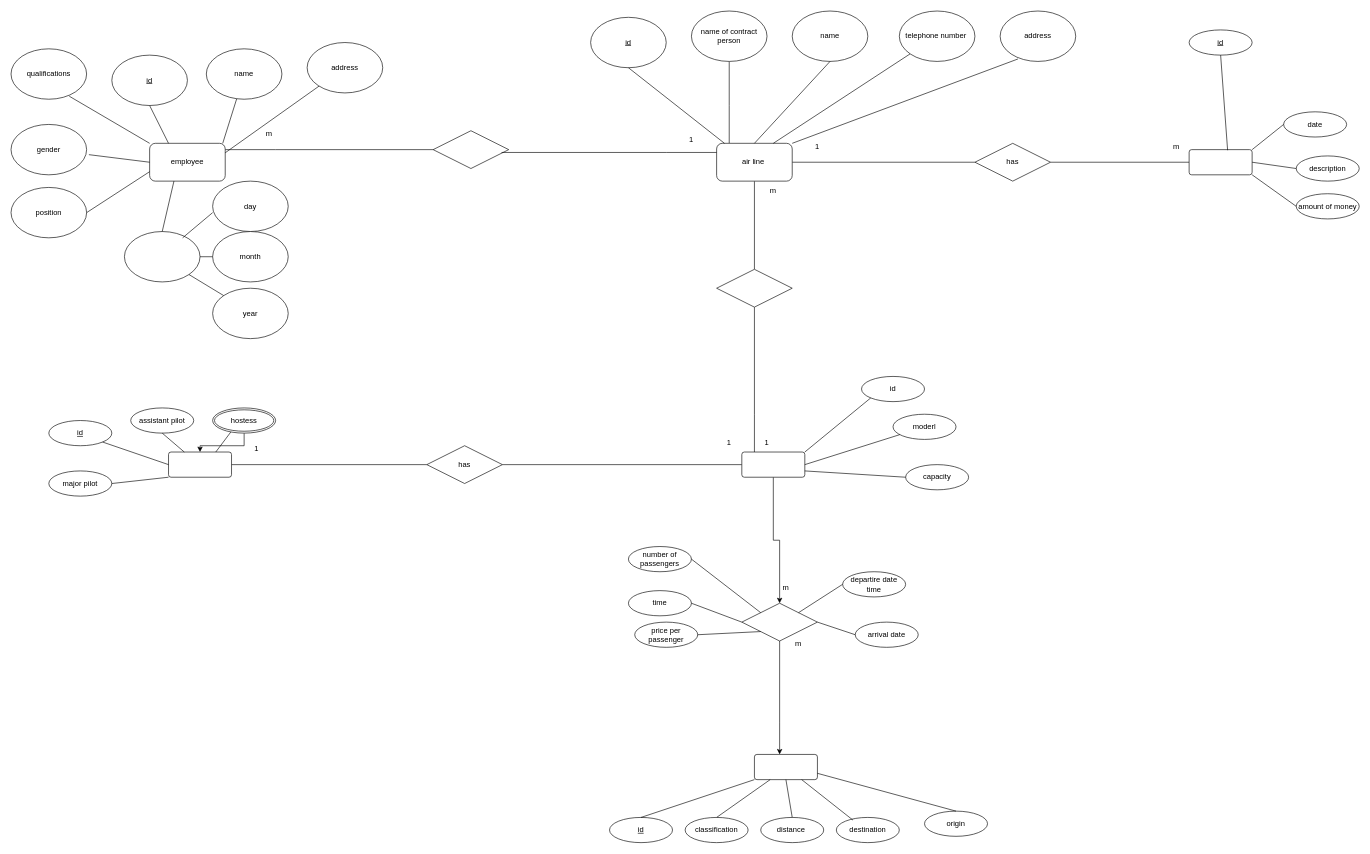
Some shapes in this 1370 by 854 pixel diagram are drawn without their labels. The box of each missing label's shape, as (x1, y1, x2, y2) in pixels:
air craft: (741, 451, 805, 477)
assigned to: (741, 603, 817, 641)
birthday: (124, 231, 200, 282)
crew: (168, 451, 232, 477)
owns: (716, 269, 792, 307)
route: (754, 754, 817, 780)
trnsactions: (1188, 149, 1252, 175)
works: (432, 130, 509, 169)
